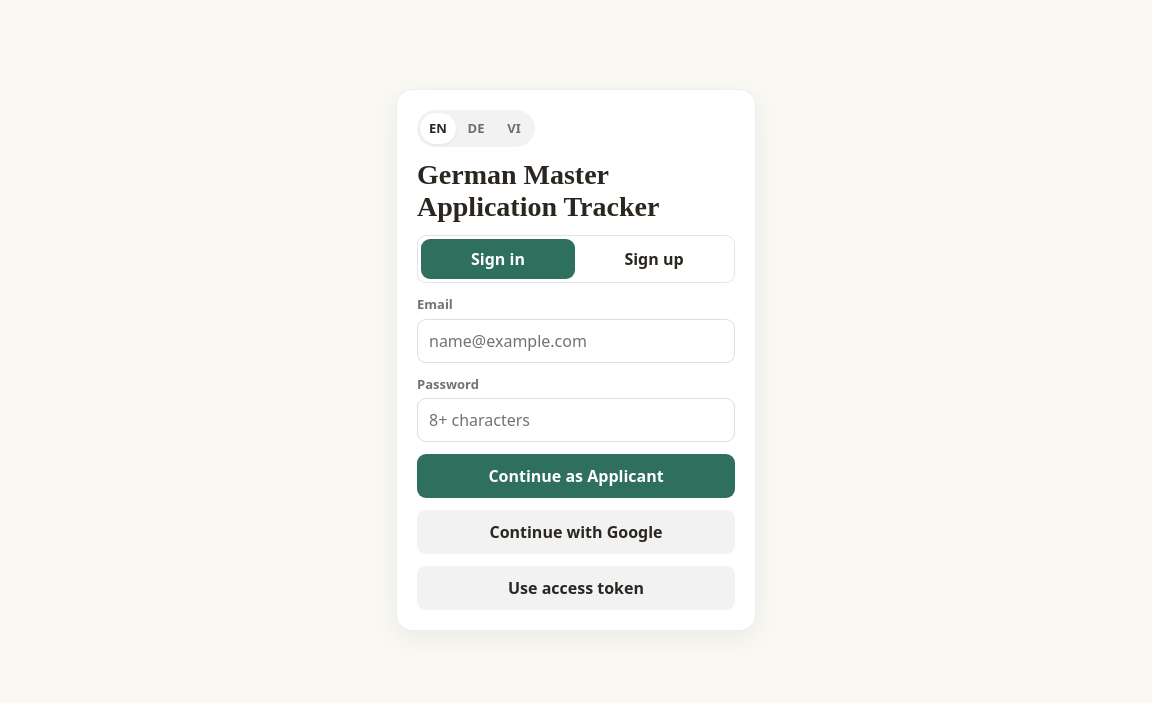
Scenario: autosaves reducer changes locally and shows the save boundary
Type "applicant@example.com" into the field labelled "Email" at (576, 341), box [417, 319, 735, 363]
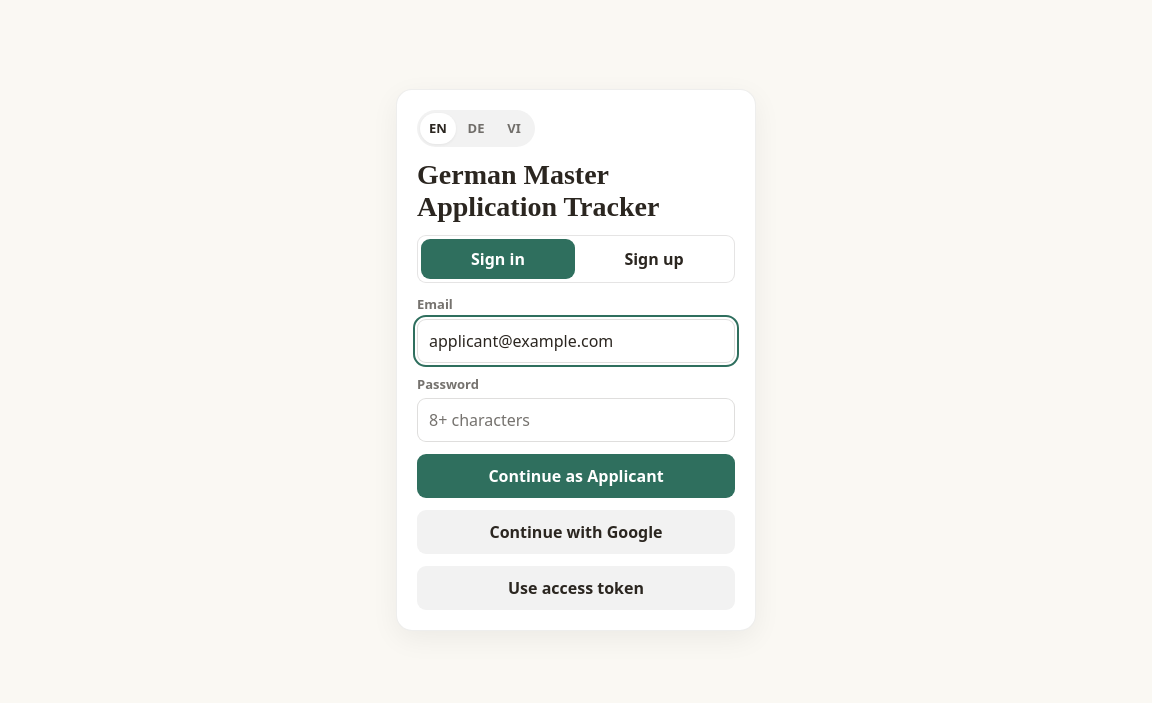
Type "application-2026" into the password field with placeholder "8+ characters" at (576, 420), box [417, 398, 735, 442]
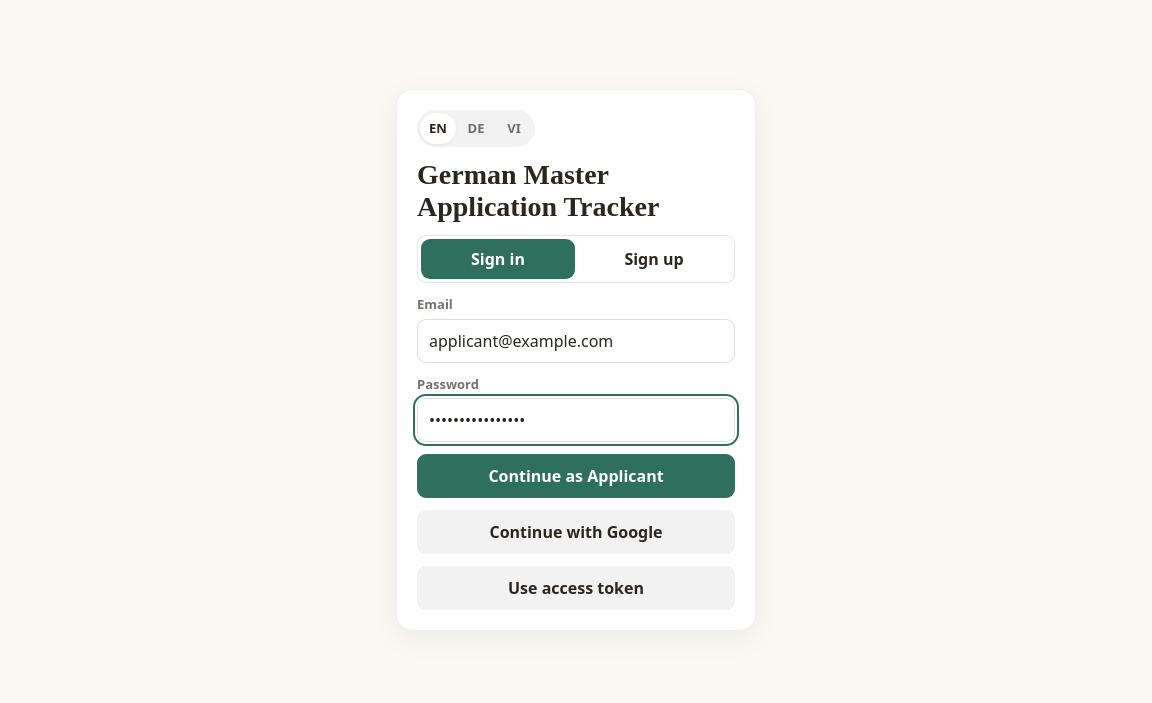
Click the button "Continue as Applicant" at (576, 476), box [417, 454, 735, 498]
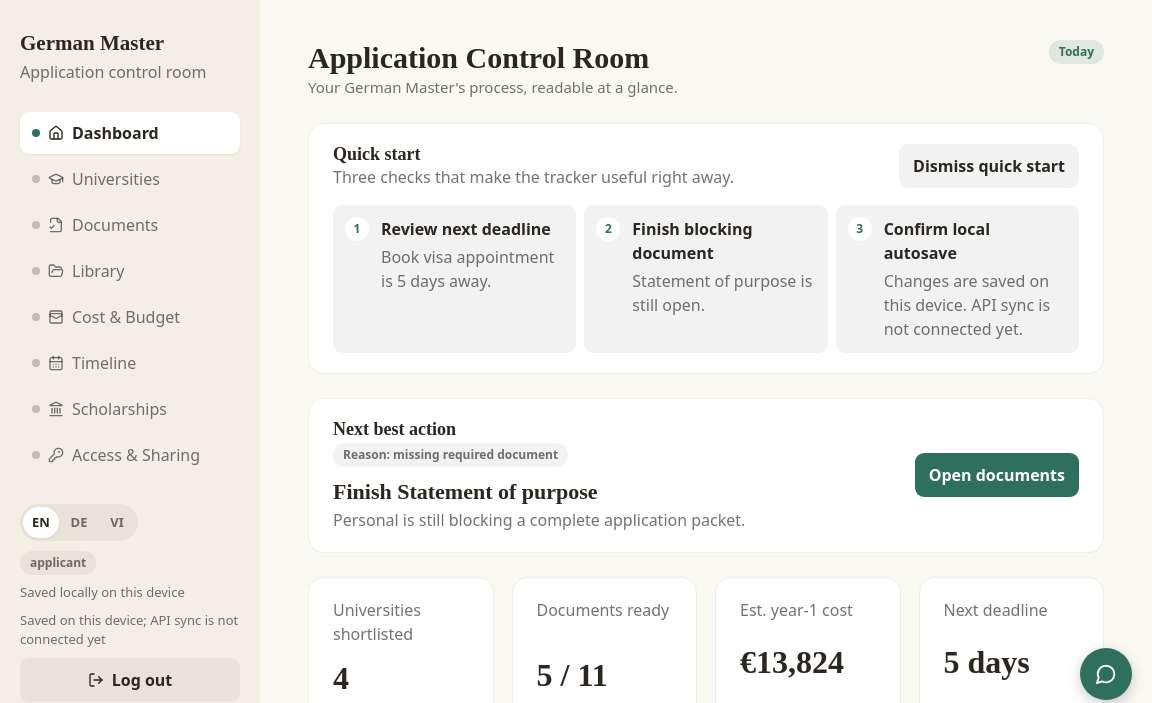
Expected: the text "Saved locally on this device" is shown, [20, 583, 185, 601]
Expected: the text "Saved on this device; API sync is not connected yet" is shown, [20, 610, 240, 650]
